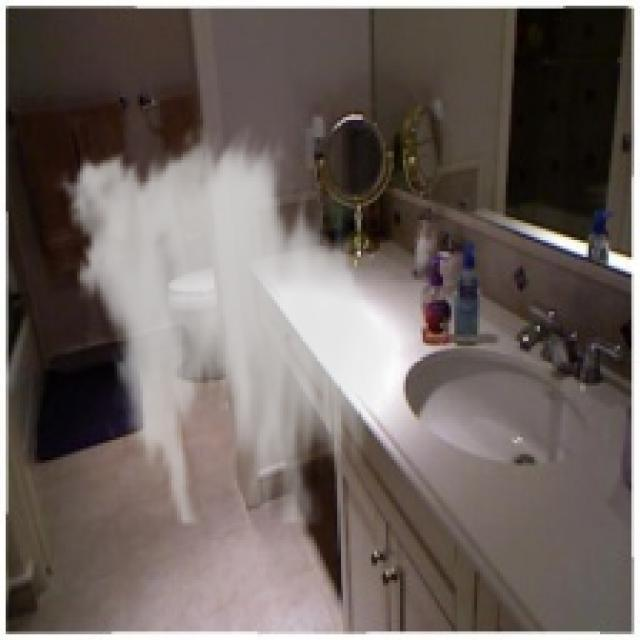Smoke: (51, 123, 408, 526)
